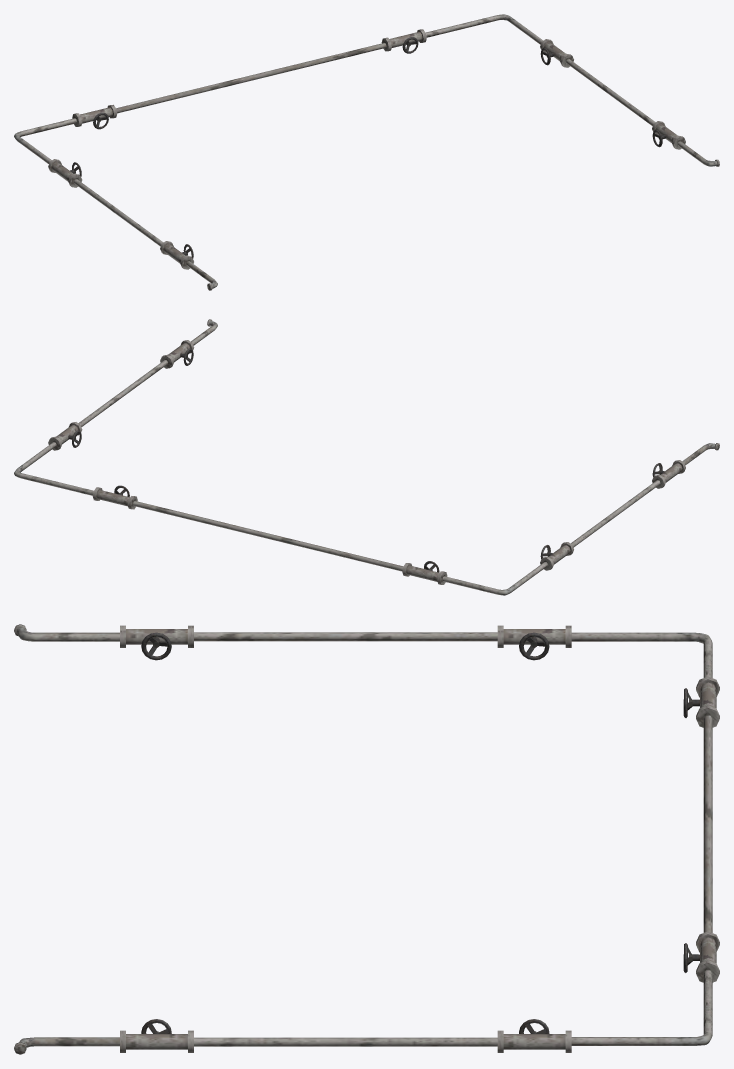
File: sm20_028_showerpipe01a.fbx
The picture shows the model from 3 angles, top to bottom: view 1: azimuth 30°, elevation 25°; view 2: azimuth 150°, elevation 25°; view 3: azimuth 270°, elevation 25°; orthographic projection. The views are drawn at different scales.
Visible parts, largest first — view 1: LOD_1_Group_0_Sub_1__sm22_010_Pipe02A_A_Mat; view 2: LOD_1_Group_0_Sub_1__sm22_010_Pipe02A_A_Mat; view 3: LOD_1_Group_0_Sub_1__sm22_010_Pipe02A_A_Mat.
Part boxes in pixels (x1,y1,x2,y2): LOD_1_Group_0_Sub_1__sm22_010_Pipe02A_A_Mat: (14, 14, 719, 290); LOD_1_Group_0_Sub_1__sm22_010_Pipe02A_A_Mat: (14, 319, 719, 595); LOD_1_Group_0_Sub_1__sm22_010_Pipe02A_A_Mat: (14, 624, 719, 1054).
Bounding box in the file's own units: 3.88 × 0.1215 × 2.76.
